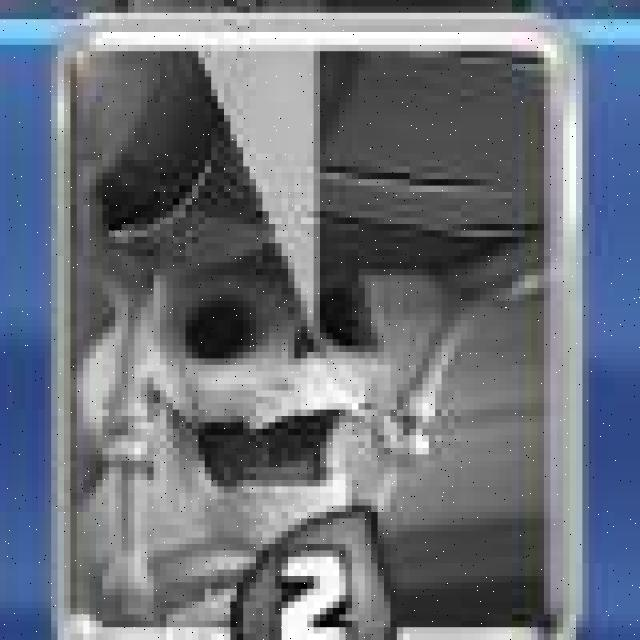Wall_Breakers: (51, 13, 593, 640)
